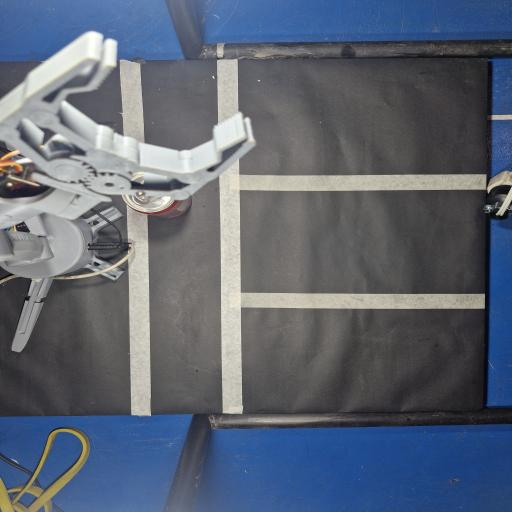lata: (122, 172, 191, 218)
